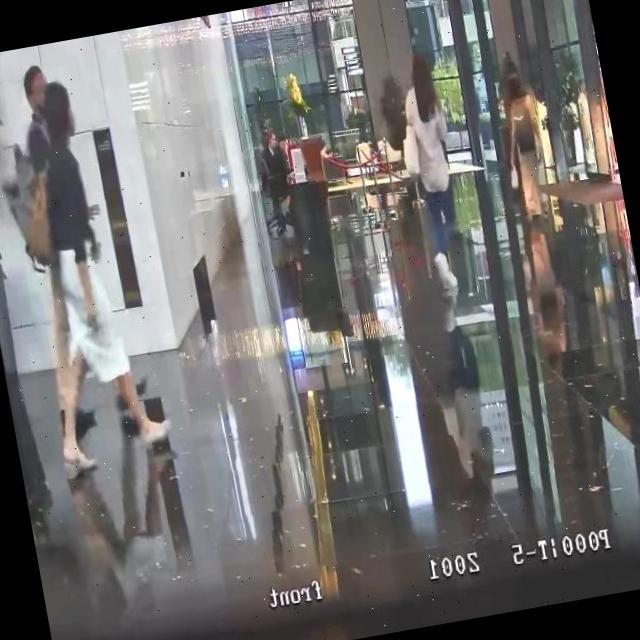person: (0, 70, 172, 482), (0, 62, 110, 433), (388, 50, 474, 288), (488, 53, 567, 287), (389, 50, 459, 201), (254, 124, 298, 233), (570, 77, 602, 170), (594, 68, 620, 178)
